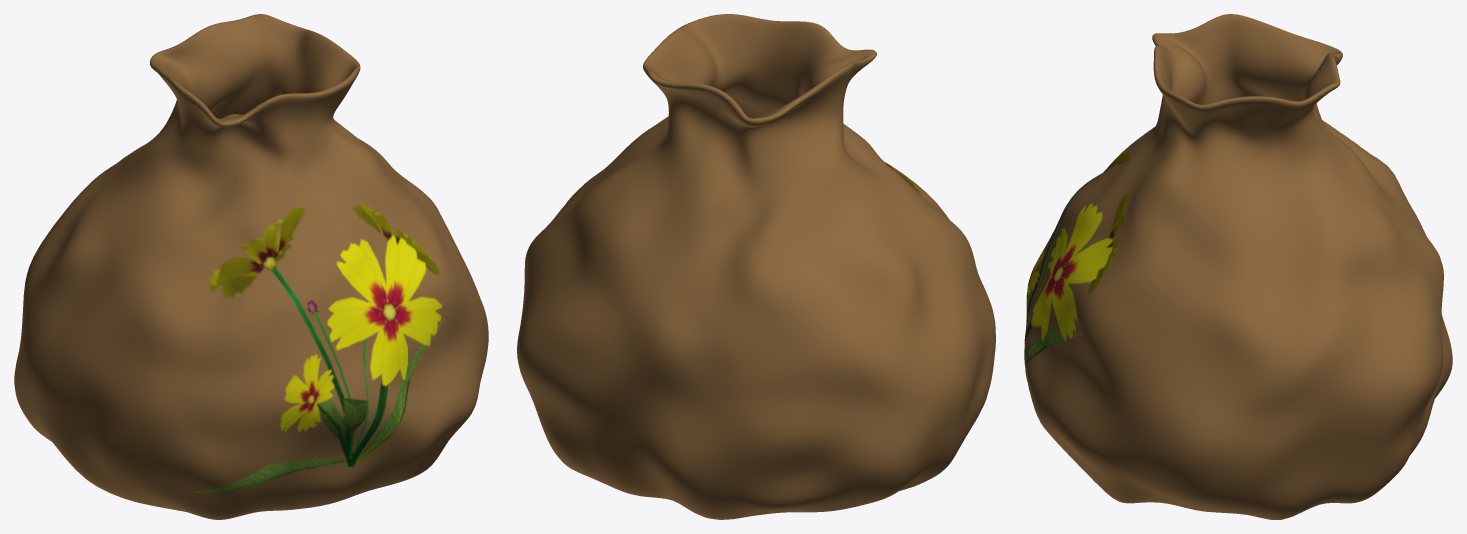
The model's file is yellow_core_seed.fbx.
3 renders of one model, left to right at view 1: azimuth 30°, elevation 25°; view 2: azimuth 150°, elevation 25°; view 3: azimuth 270°, elevation 25°, orthographic. The views are drawn at different scales.
Visible parts, largest first — view 1: zak; view 2: zak; view 3: zak.
Part boxes in pixels (x1,y1,x2,y2): zak: (14,14,488,519); zak: (517,14,995,519); zak: (1024,14,1452,519).
Size of the model in its own units: 196 by 175 by 183.
Materials: 1 (1 with a texture image).
